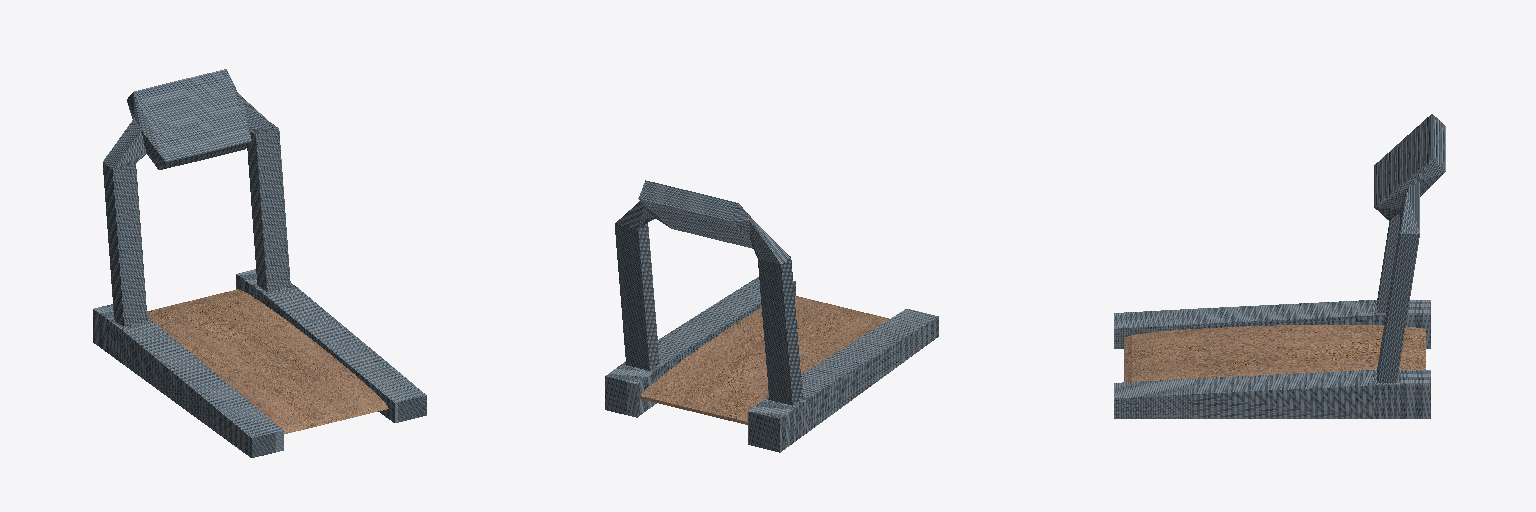
3 views of the same model, side by side, from view 1: azimuth 30°, elevation 25°; view 2: azimuth 150°, elevation 25°; view 3: azimuth 270°, elevation 25° (orthographic).
Visible parts, largest first — view 1: Box001, Cylinder001; view 2: Box001, Cylinder001; view 3: Box001, Cylinder001.
Part boxes in pixels (bbox=[...]): Box001: bbox=[93, 69, 426, 457]; Cylinder001: bbox=[147, 289, 388, 433]; Box001: bbox=[605, 180, 938, 452]; Cylinder001: bbox=[640, 295, 888, 424]; Box001: bbox=[1114, 114, 1445, 418]; Cylinder001: bbox=[1124, 325, 1425, 381].
Size of the model in its own units: 108 by 142 by 178.
2 materials, 2 textured.